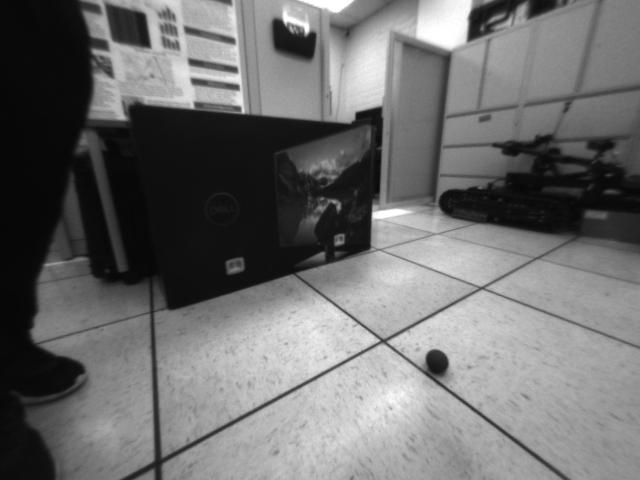dogtoy: (422, 345, 455, 377)
